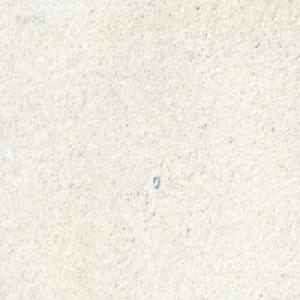Washer: (152, 173, 160, 189)
